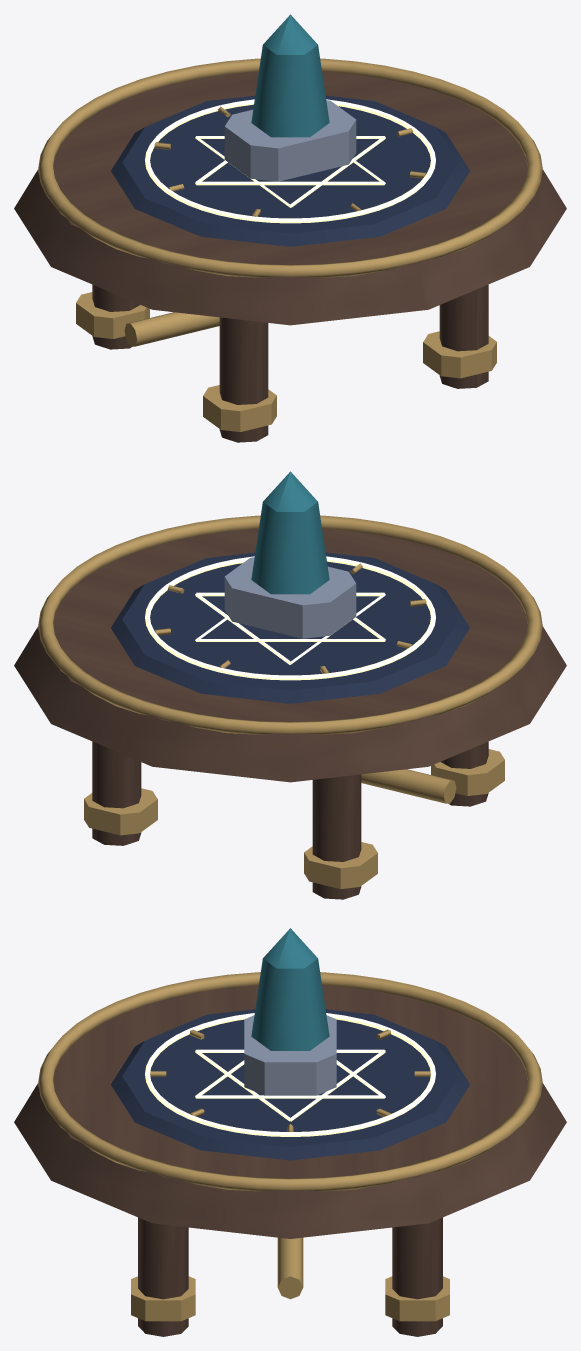
File: rune-crafting-table.glb
3 views of the same model, one above another, from view 1: azimuth 30°, elevation 25°; view 2: azimuth 150°, elevation 25°; view 3: azimuth 270°, elevation 25° (orthographic).
Parts seen in each view (by area): view 1: CentralCraftingTable_wood, CentralCraftingTable_dark, CentralCraftingTable_gold, CentralCraftingTable_teal, CentralCraftingTable_edge, CentralCraftingTable_flame; view 2: CentralCraftingTable_wood, CentralCraftingTable_dark, CentralCraftingTable_gold, CentralCraftingTable_teal, CentralCraftingTable_edge, CentralCraftingTable_flame; view 3: CentralCraftingTable_wood, CentralCraftingTable_dark, CentralCraftingTable_gold, CentralCraftingTable_teal, CentralCraftingTable_flame, CentralCraftingTable_edge.
Part boxes in pixels (x1=…): CentralCraftingTable_wood: x1=14, y1=71, x2=566, y2=442; CentralCraftingTable_dark: x1=111, y1=95, x2=469, y2=246; CentralCraftingTable_gold: x1=38, y1=58, x2=542, y2=431; CentralCraftingTable_teal: x1=251, y1=14, x2=329, y2=137; CentralCraftingTable_edge: x1=224, y1=100, x2=356, y2=181; CentralCraftingTable_flame: x1=145, y1=99, x2=435, y2=223; CentralCraftingTable_wood: x1=14, y1=528, x2=566, y2=899; CentralCraftingTable_dark: x1=111, y1=552, x2=469, y2=703; CentralCraftingTable_gold: x1=38, y1=515, x2=542, y2=888; CentralCraftingTable_teal: x1=251, y1=471, x2=329, y2=594; CentralCraftingTable_edge: x1=224, y1=557, x2=356, y2=638; CentralCraftingTable_flame: x1=145, y1=556, x2=435, y2=680; CentralCraftingTable_wood: x1=14, y1=985, x2=566, y2=1336; CentralCraftingTable_dark: x1=111, y1=1009, x2=469, y2=1160; CentralCraftingTable_gold: x1=38, y1=972, x2=542, y2=1321; CentralCraftingTable_teal: x1=251, y1=928, x2=329, y2=1050; CentralCraftingTable_flame: x1=145, y1=1013, x2=435, y2=1136; CentralCraftingTable_edge: x1=244, y1=1015, x2=336, y2=1095.
Size of the model in its own units: 2.4 by 1.65 by 2.4.
Materials: 6 (1 with a texture image).
